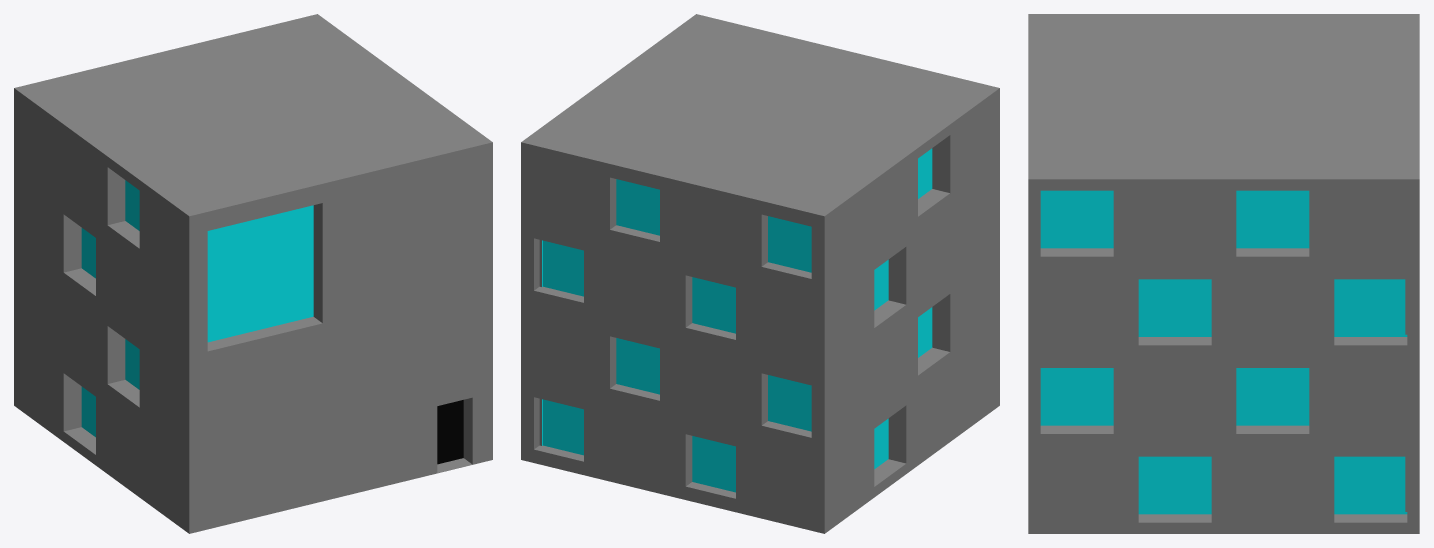
File: Predio6.fbx
3 renders of one model, left to right at view 1: azimuth 30°, elevation 25°; view 2: azimuth 150°, elevation 25°; view 3: azimuth 270°, elevation 25°, orthographic. The views are drawn at different scales.
Parts seen in each view (by area): view 1: Cube; view 2: Cube; view 3: Cube.
Boxes of the visible parts, x1,y1,x2,y2 form: Cube: (14, 14, 492, 533); Cube: (521, 14, 999, 533); Cube: (1028, 14, 1419, 533).
Size of the model in its own units: 200 by 200 by 200.
